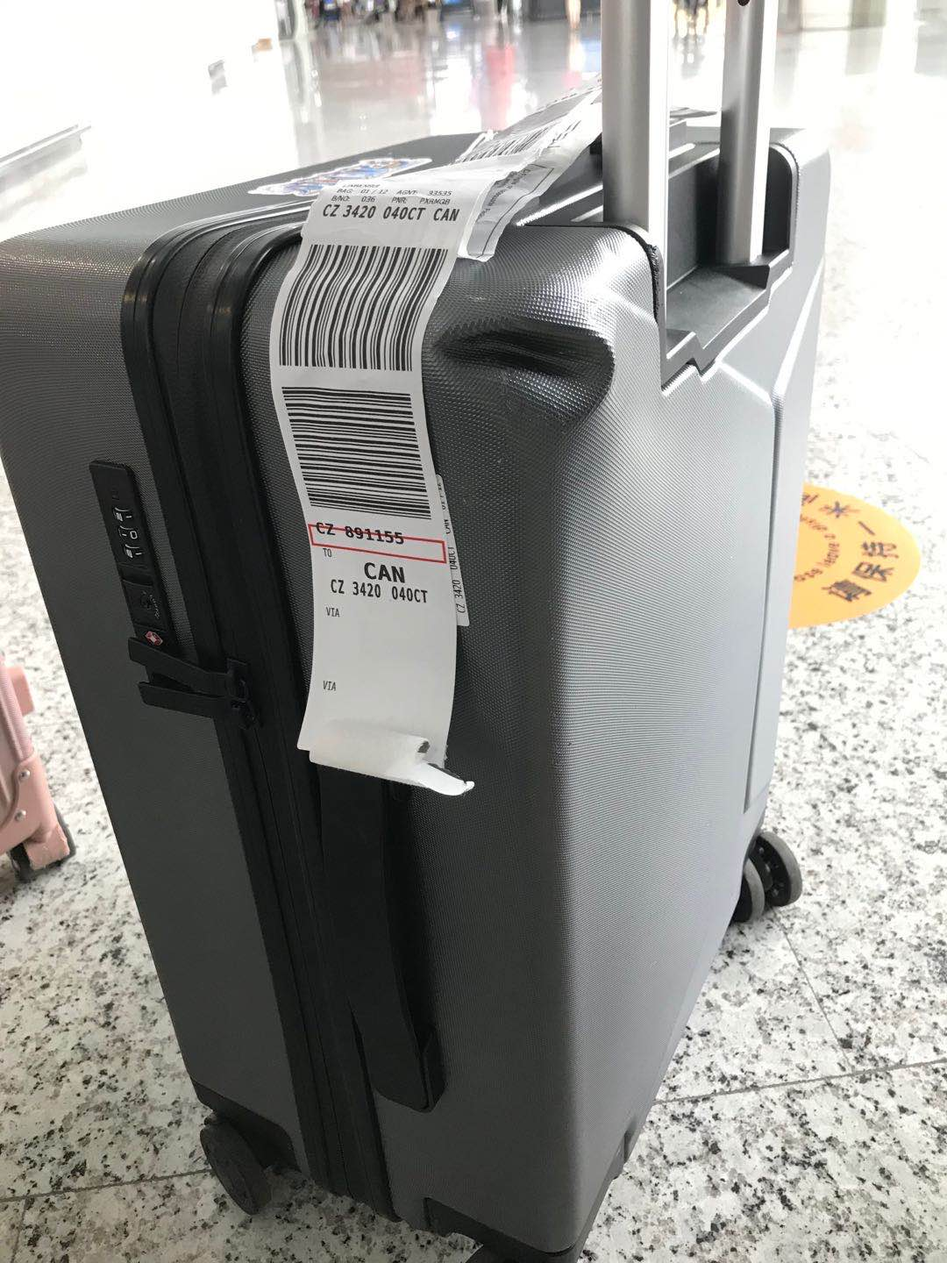rupture: (429, 312, 616, 423)
